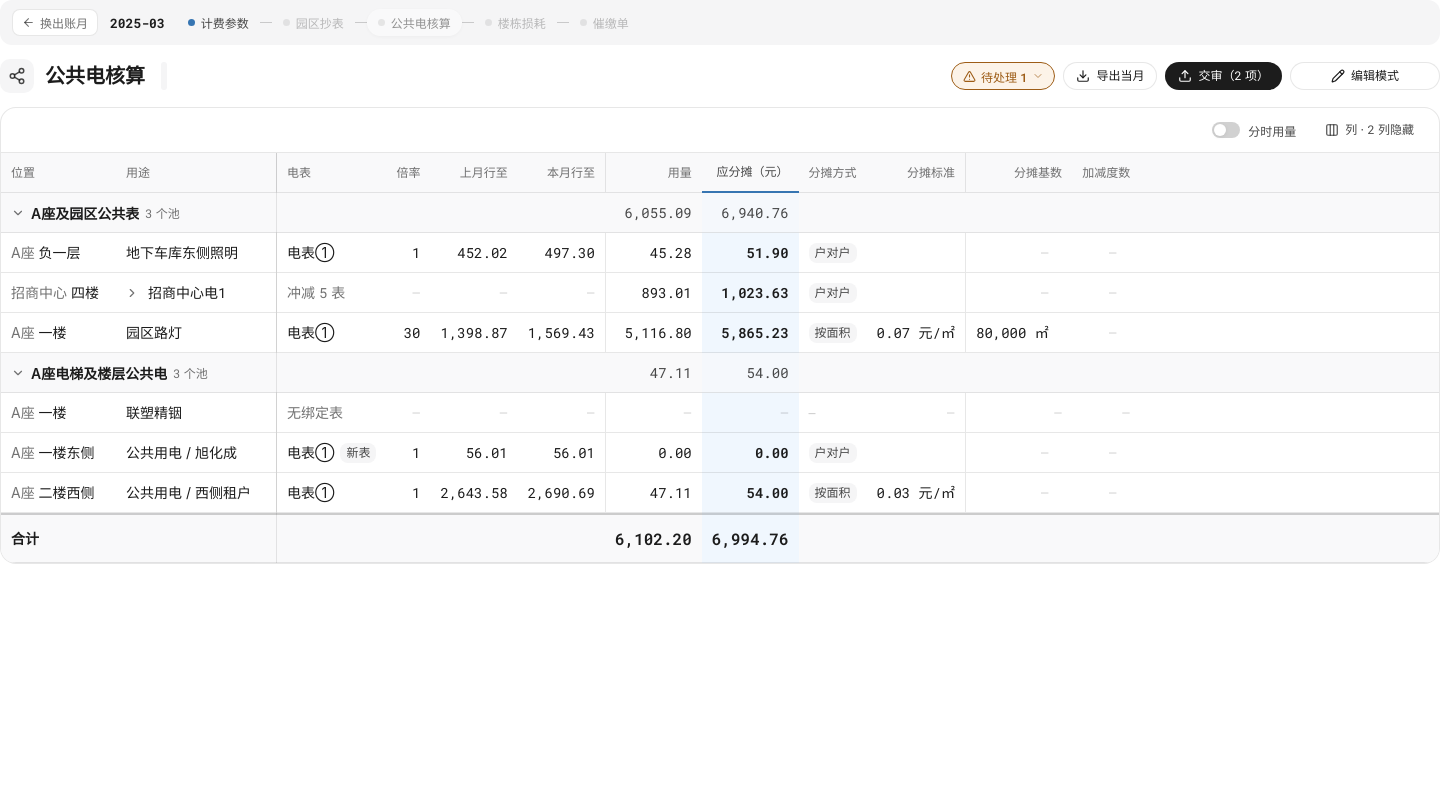
Test case: 对抗复查 · 问题面板「待重算」三支(asserts-7,06-C) › 编辑态:参数晚于结果、池配置也改过没重新生成 → 只出一个「待重算」组,两条明细,组头「重算本月」
The image size is (1440, 810).
Step 1. Click the button "编辑模式" → point(1365, 76), box [1290,62,1439,90]
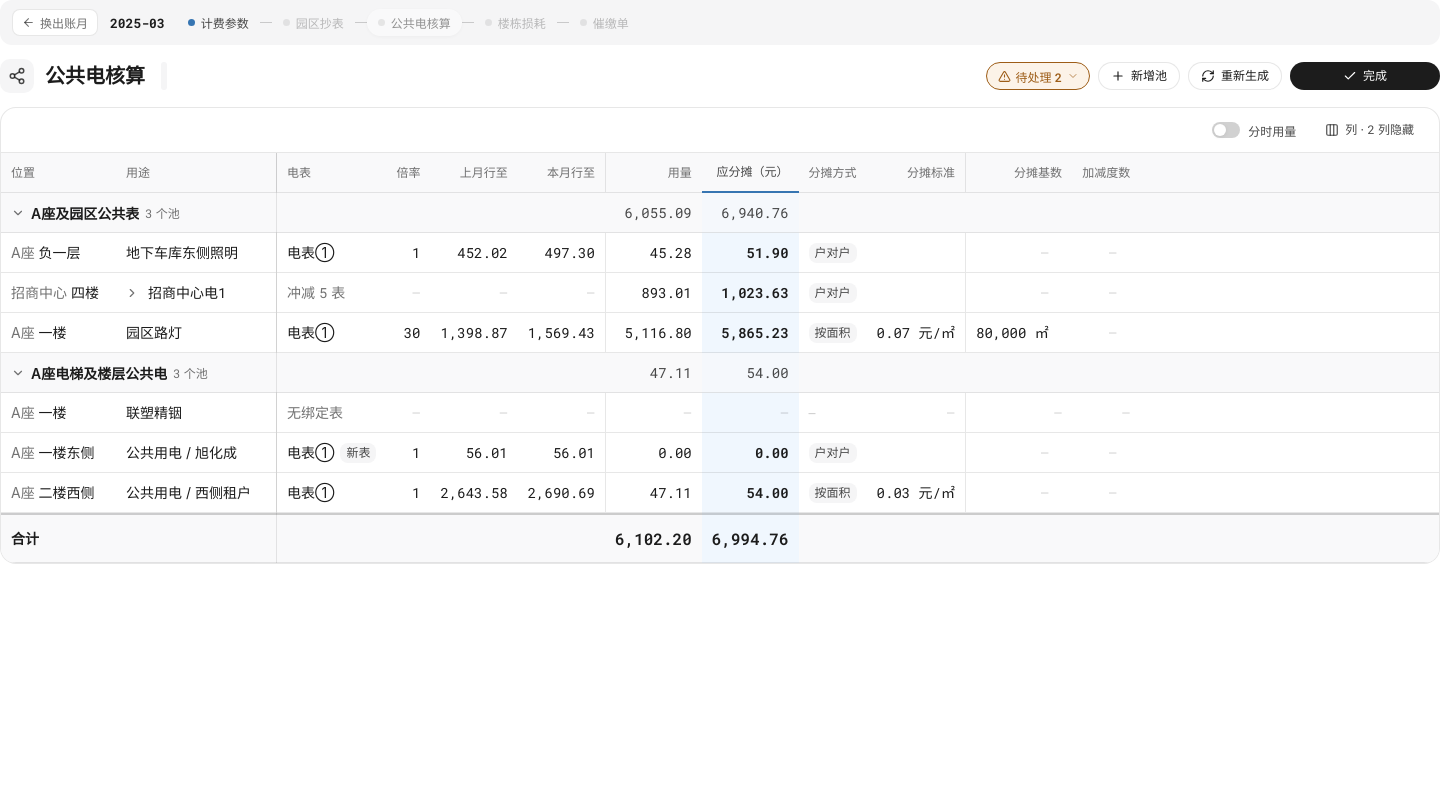
Step 2. Click the button with class "fac" → point(1038, 76), box [986,62,1090,90]
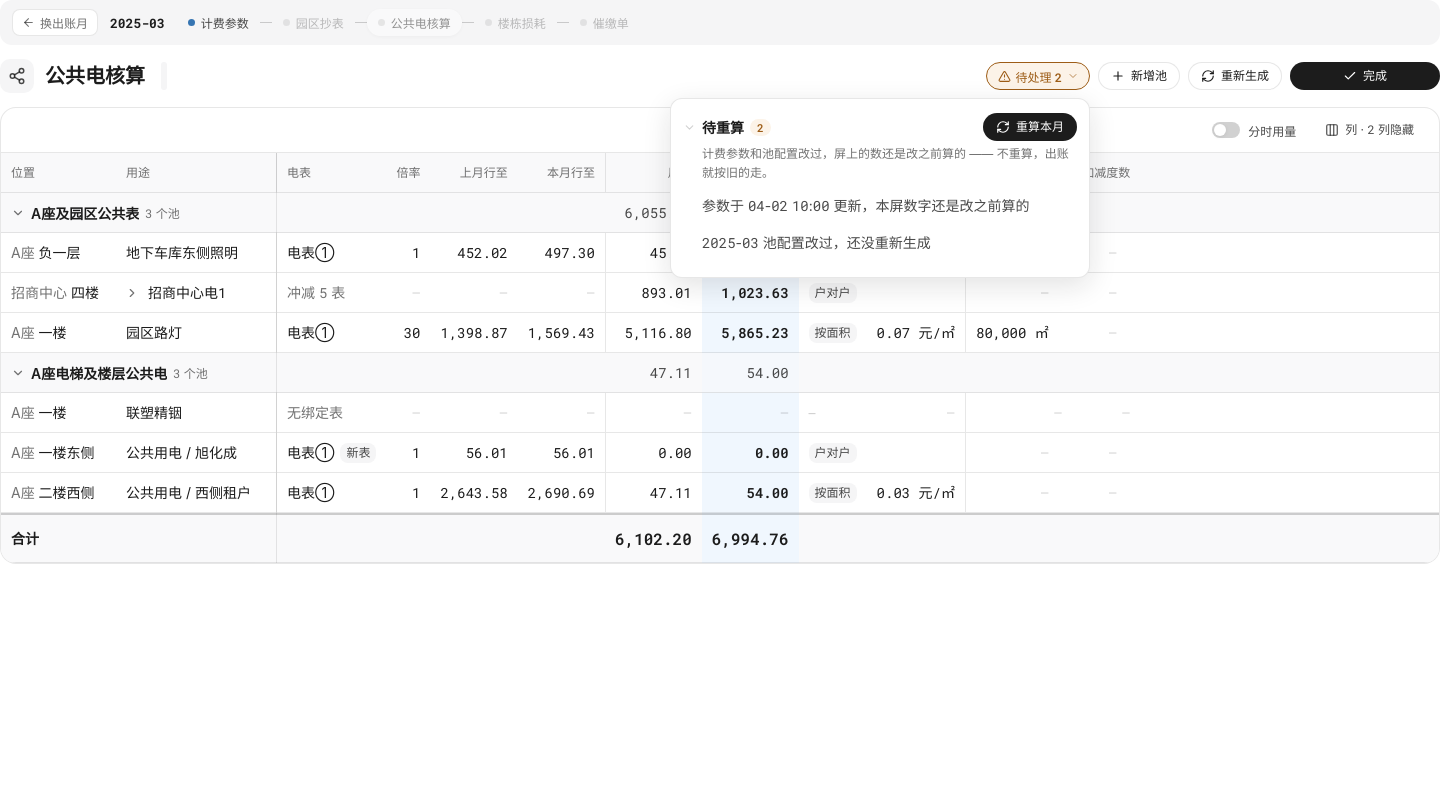
Expected: the text with class "fap-desc" shows "和池配置改过", [702,146,1069,180]
Expected: the button "重算本月" is shown, [983,113,1077,141]
